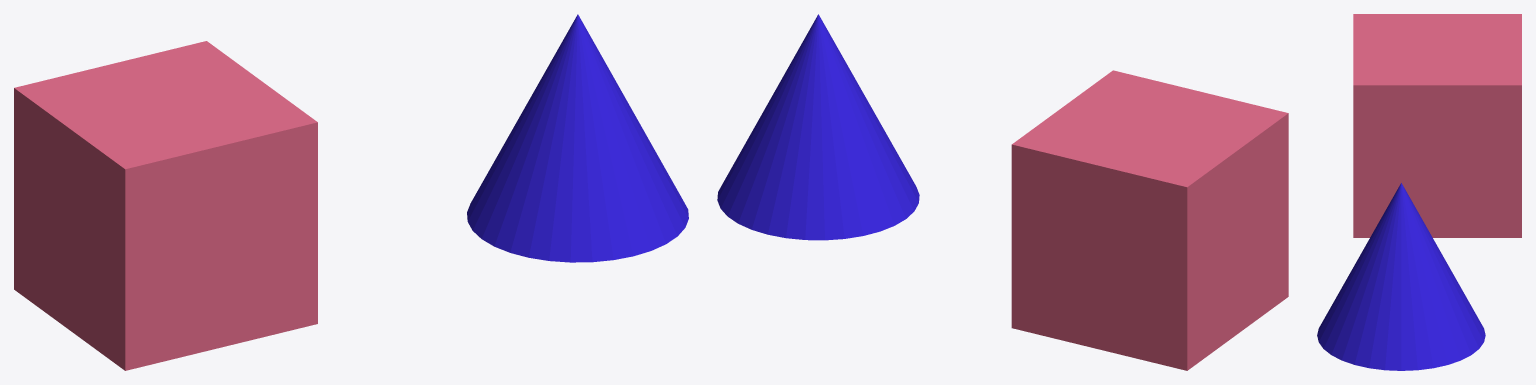
File: testCube_v1_a.gltf
3 renders of one model, left to right at view 1: azimuth 30°, elevation 25°; view 2: azimuth 150°, elevation 25°; view 3: azimuth 270°, elevation 25°, orthographic. The views are drawn at different scales.
Parts seen in each view (by area): view 1: testCube, Cone; view 2: testCube, Cone; view 3: testCube, Cone.
Boxes of the visible parts, <box> form: testCube: <box>14,41,317,370</box>; Cone: <box>467,14,688,262</box>; testCube: <box>1011,70,1288,370</box>; Cone: <box>717,14,919,240</box>; testCube: <box>1353,14,1521,237</box>; Cone: <box>1317,183,1485,370</box>.
Bounding box in the file's own units: 6.03 × 2.14 × 2.43.
